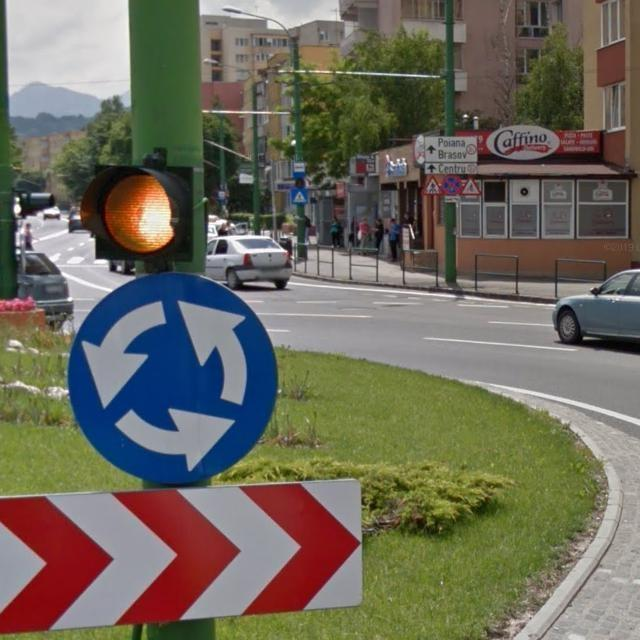forb_waiting: (442, 175, 462, 196)
warn_crosswalk: (422, 175, 443, 195)
